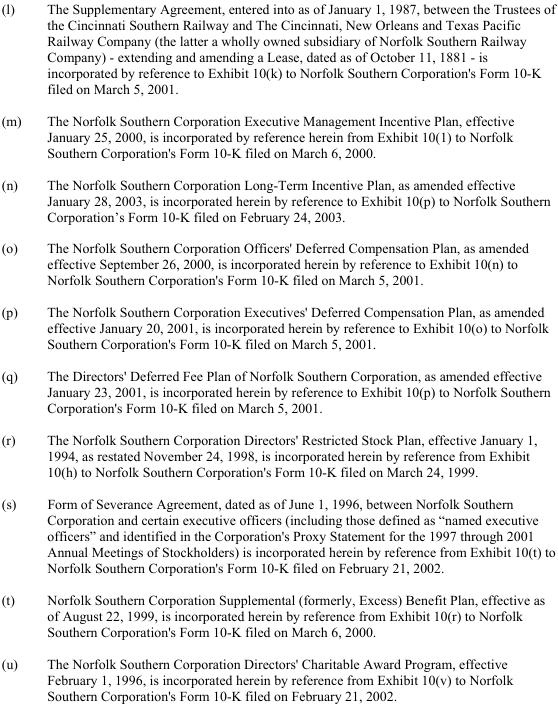table: (0, 0, 554, 702)
table column: (33, 0, 554, 702), (0, 0, 33, 702)
table row: (0, 0, 554, 104), (0, 487, 554, 583), (0, 167, 554, 231), (0, 231, 554, 295), (0, 295, 554, 359), (0, 359, 554, 423), (0, 423, 554, 487), (0, 583, 554, 647), (0, 104, 554, 167), (0, 647, 554, 702)
